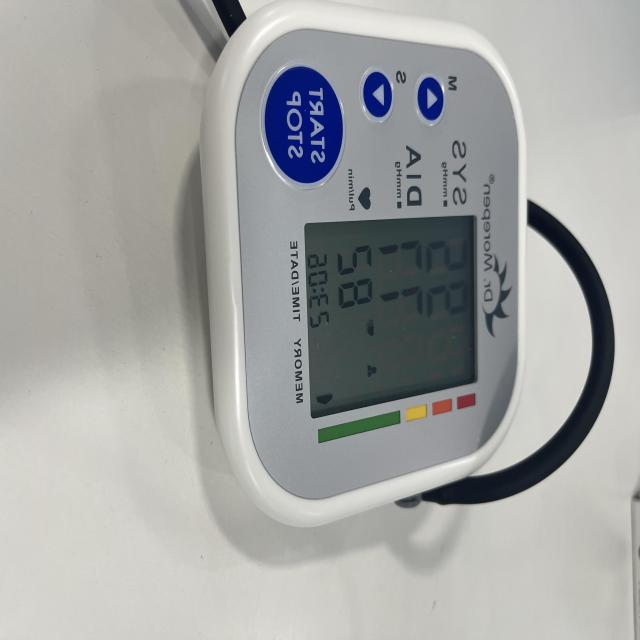bp: (201, 0, 530, 530)
